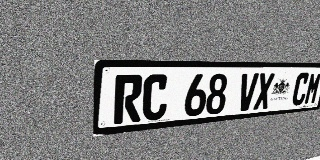6: (183, 74, 209, 117)
8: (205, 74, 229, 115)
C: (141, 74, 169, 121), (291, 73, 310, 106)
M: (303, 72, 320, 105)
R: (114, 75, 143, 124)
V: (236, 73, 259, 112)
X: (253, 73, 275, 110)
